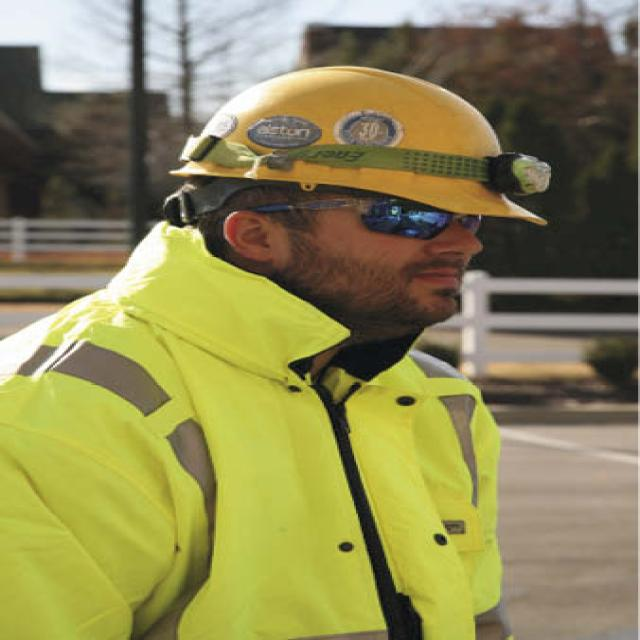helmet: (152, 65, 554, 234)
no-goggles: (273, 182, 490, 245)
vest: (0, 284, 523, 640)
